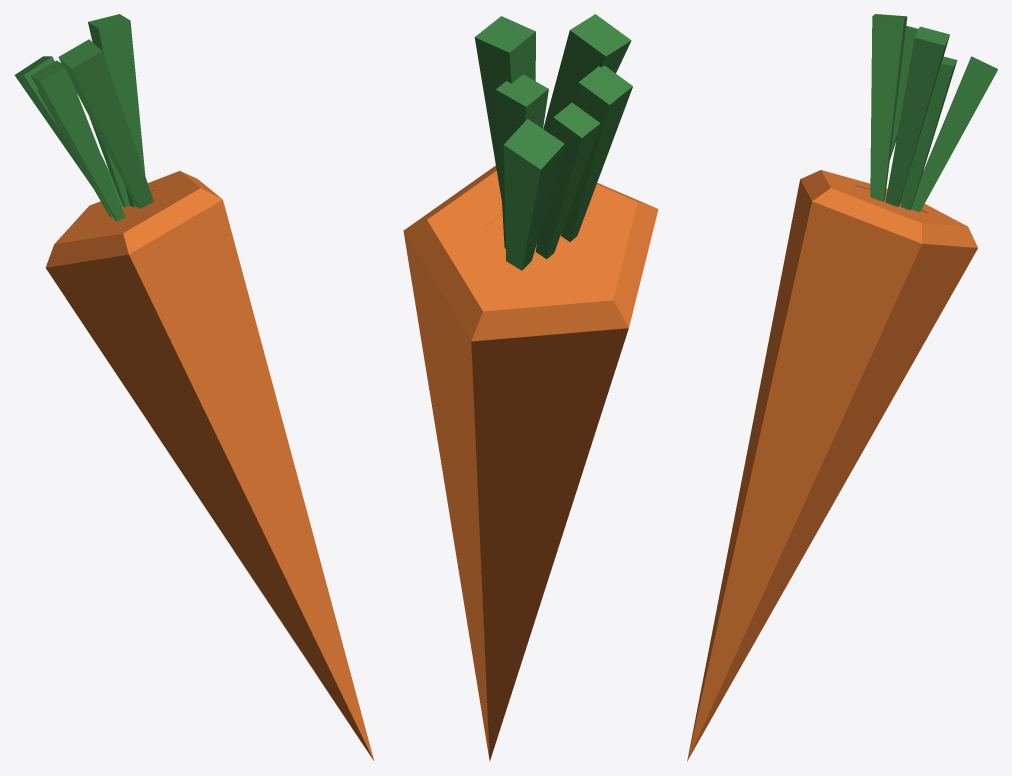
File: carrot.fbx
The picture shows the model from 3 angles, left to right: view 1: azimuth 30°, elevation 25°; view 2: azimuth 150°, elevation 25°; view 3: azimuth 270°, elevation 25°; orthographic projection. The views are drawn at different scales.
Parts seen in each view (by area): view 1: pPyramid1, pasted__pCube1 (×4), pCube1; view 2: pPyramid1, pasted__pCube1 (×5), pCube1; view 3: pPyramid1, pasted__pCube1 (×4), pCube1.
Part boxes in pixels (x1,y1,x2,y2): pPyramid1: (45, 171, 373, 760); pasted__pCube1 (×4): (14, 14, 153, 208); pCube1: (30, 60, 125, 221); pPyramid1: (403, 165, 658, 761); pasted__pCube1 (×5): (474, 14, 631, 270); pCube1: (561, 65, 632, 241); pPyramid1: (687, 170, 977, 761); pasted__pCube1 (×4): (870, 14, 997, 212); pCube1: (890, 25, 918, 159).
Bounding box in the file's own units: 3.29 × 9.73 × 4.12.
